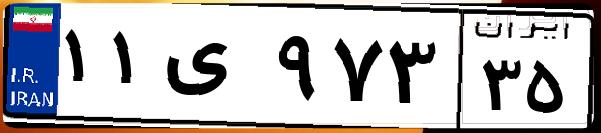1: (57, 26, 110, 100), (110, 28, 158, 98)
3: (385, 28, 445, 110), (475, 38, 525, 113)
5: (525, 38, 570, 115)
7: (330, 28, 385, 110)
9: (270, 28, 330, 110)
ی: (158, 20, 270, 120)
